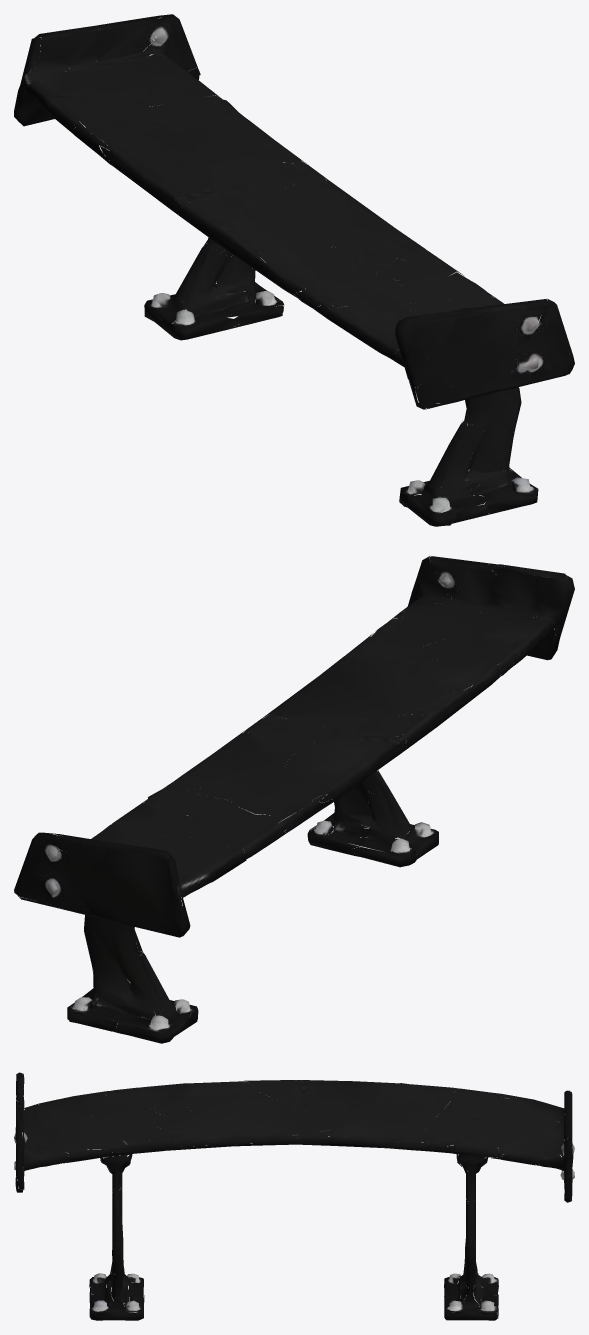
File: common_wing.glb
The picture shows the model from 3 angles, top to bottom: view 1: azimuth 30°, elevation 25°; view 2: azimuth 150°, elevation 25°; view 3: azimuth 270°, elevation 25°; orthographic projection. The views are drawn at different scales.
Visible parts, largest first — view 1: tripo_node_e418e818-9762-4f5b-b572-33a40b1f2a7a; view 2: tripo_node_e418e818-9762-4f5b-b572-33a40b1f2a7a; view 3: tripo_node_e418e818-9762-4f5b-b572-33a40b1f2a7a.
Boxes of the visible parts, bbox=[...] form: tripo_node_e418e818-9762-4f5b-b572-33a40b1f2a7a: bbox=[14, 14, 574, 526]; tripo_node_e418e818-9762-4f5b-b572-33a40b1f2a7a: bbox=[14, 556, 574, 1043]; tripo_node_e418e818-9762-4f5b-b572-33a40b1f2a7a: bbox=[14, 1072, 574, 1320].
Size of the model in its own units: 0.3132 by 0.3659 by 1.
1 material, 1 textured.
